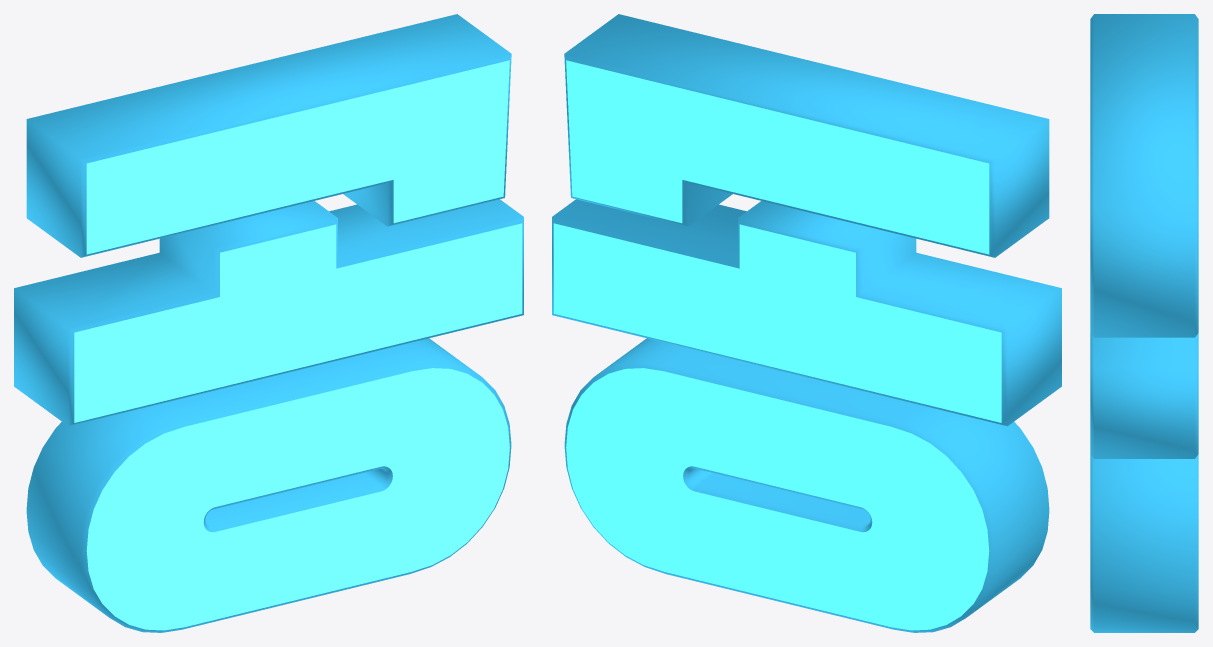
The model's file is u_acf5_b.glb.
3 views of the same model, side by side, from view 1: azimuth 30°, elevation 25°; view 2: azimuth 150°, elevation 25°; view 3: azimuth 270°, elevation 25° (orthographic). The views are drawn at different scales.
Parts seen in each view (by area): view 1: glyph; view 2: glyph; view 3: glyph.
Part boxes in pixels (left/top/right/bottom): glyph: left=14, top=14, right=523, bottom=632; glyph: left=552, top=14, right=1061, bottom=632; glyph: left=1090, top=14, right=1198, bottom=632.
Bounding box in the file's own units: 0.0726 × 0.0755 × 0.0162.
